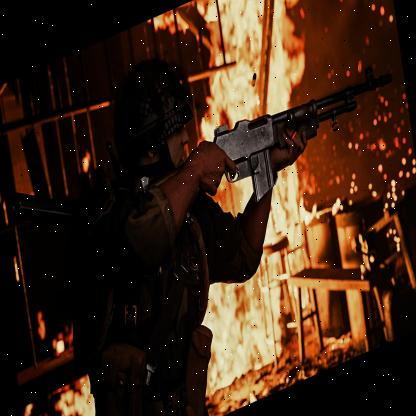rifle: (141, 37, 406, 246)
